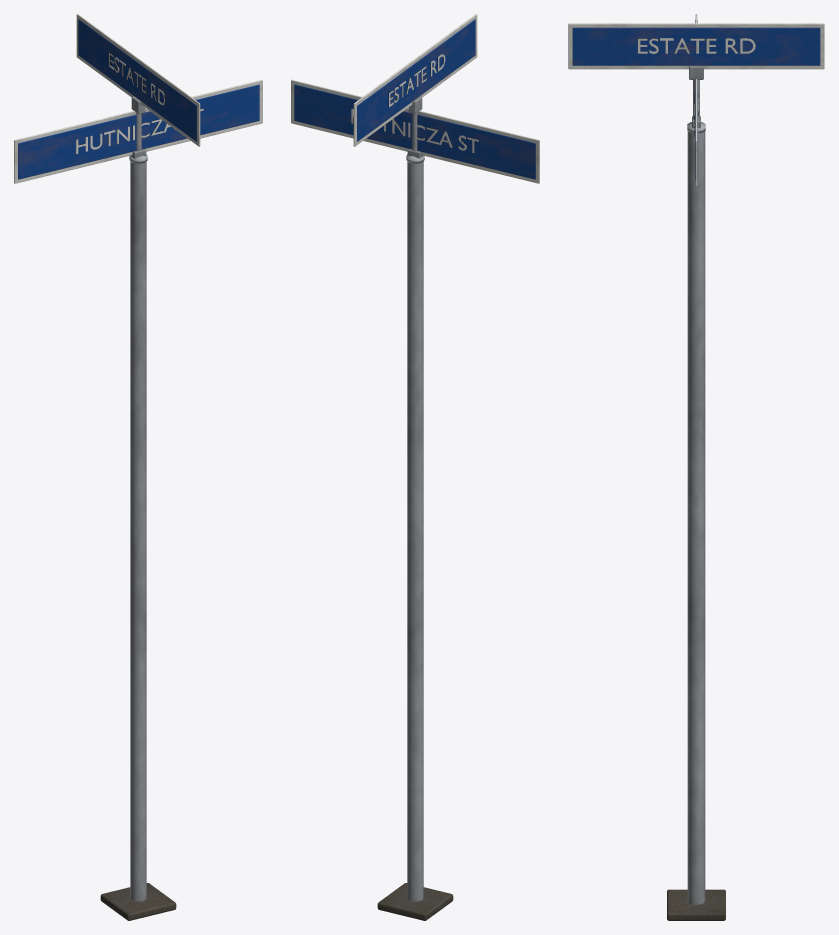
The model's file is znak_ulica_b.glb.
The picture shows the model from 3 angles, left to right: view 1: azimuth 30°, elevation 25°; view 2: azimuth 150°, elevation 25°; view 3: azimuth 270°, elevation 25°; orthographic projection. The views are drawn at different scales.
Visible parts, largest first — view 1: Tarcza, Slupek; view 2: Tarcza, Slupek; view 3: Slupek, Tarcza.
Part boxes in pixels (<box>): Tarcza: <box>14,14,262,183</box>; Slupek: <box>100,96,176,920</box>; Tarcza: <box>291,14,539,183</box>; Slupek: <box>377,96,453,920</box>; Slupek: <box>667,65,725,920</box>; Tarcza: <box>568,14,824,185</box>.
Size of the model in its own units: 1.01 by 3.3 by 0.866.
Materials: 2 (2 with a texture image).
